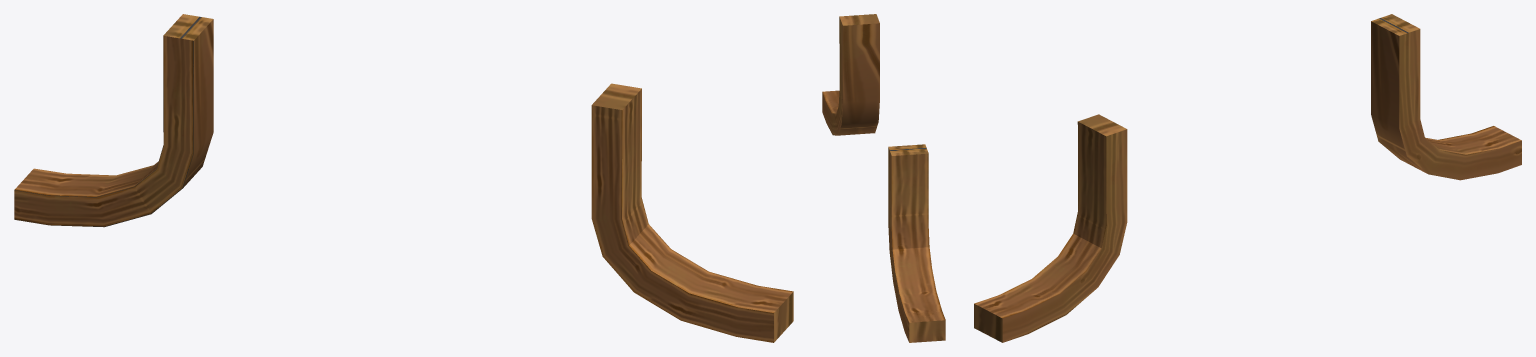
The picture shows the model from 3 angles, left to right: view 1: azimuth 30°, elevation 25°; view 2: azimuth 150°, elevation 25°; view 3: azimuth 270°, elevation 25°; orthographic projection. The views are drawn at different scales.
Visible parts, largest first — view 1: Cube.661; view 2: Cube.661; view 3: Cube.661.
Boxes of the visible parts, x1,y1,x2,y2 form: Cube.661: (14, 14, 793, 342); Cube.661: (822, 14, 945, 342); Cube.661: (974, 14, 1521, 342).
Size of the model in its own units: 585 by 242 by 702.
Materials: 1 (1 with a texture image).
